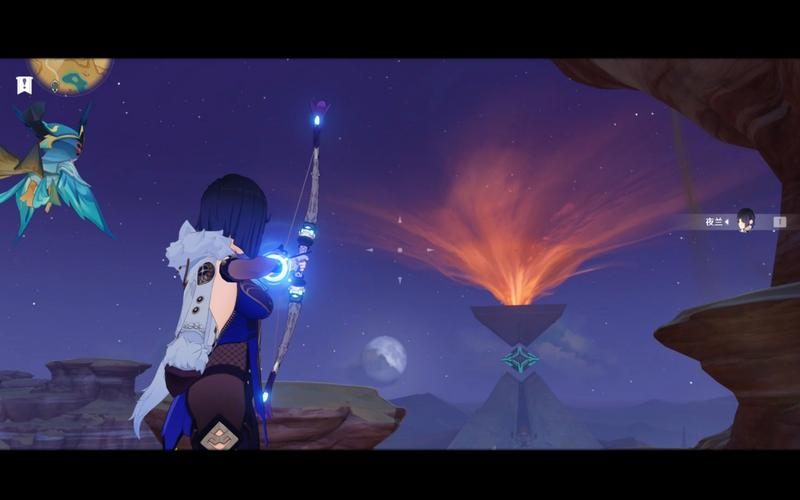夜兰: (169, 175, 277, 445)
